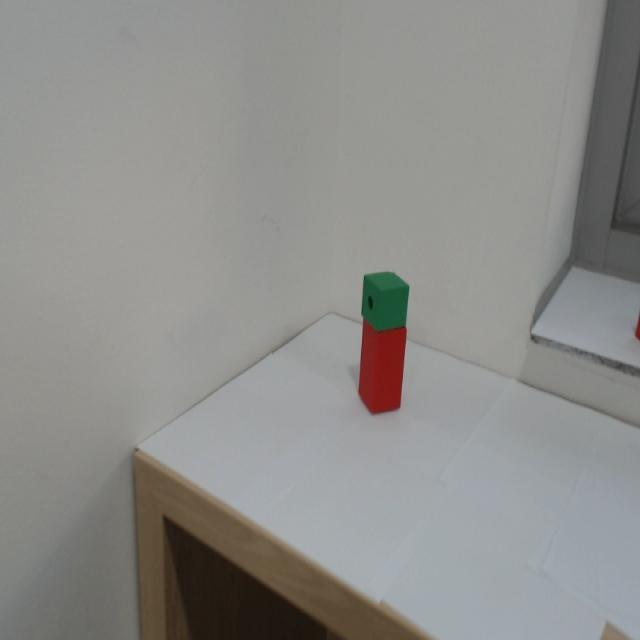cube: (358, 266, 412, 337)
